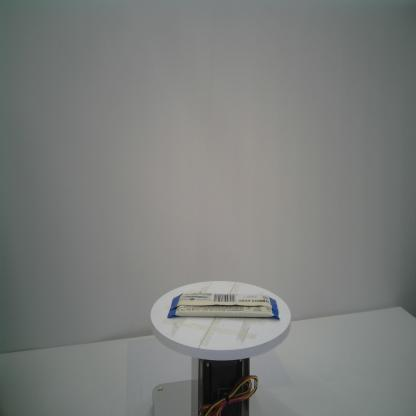Chocolate: (167, 291, 281, 323)
